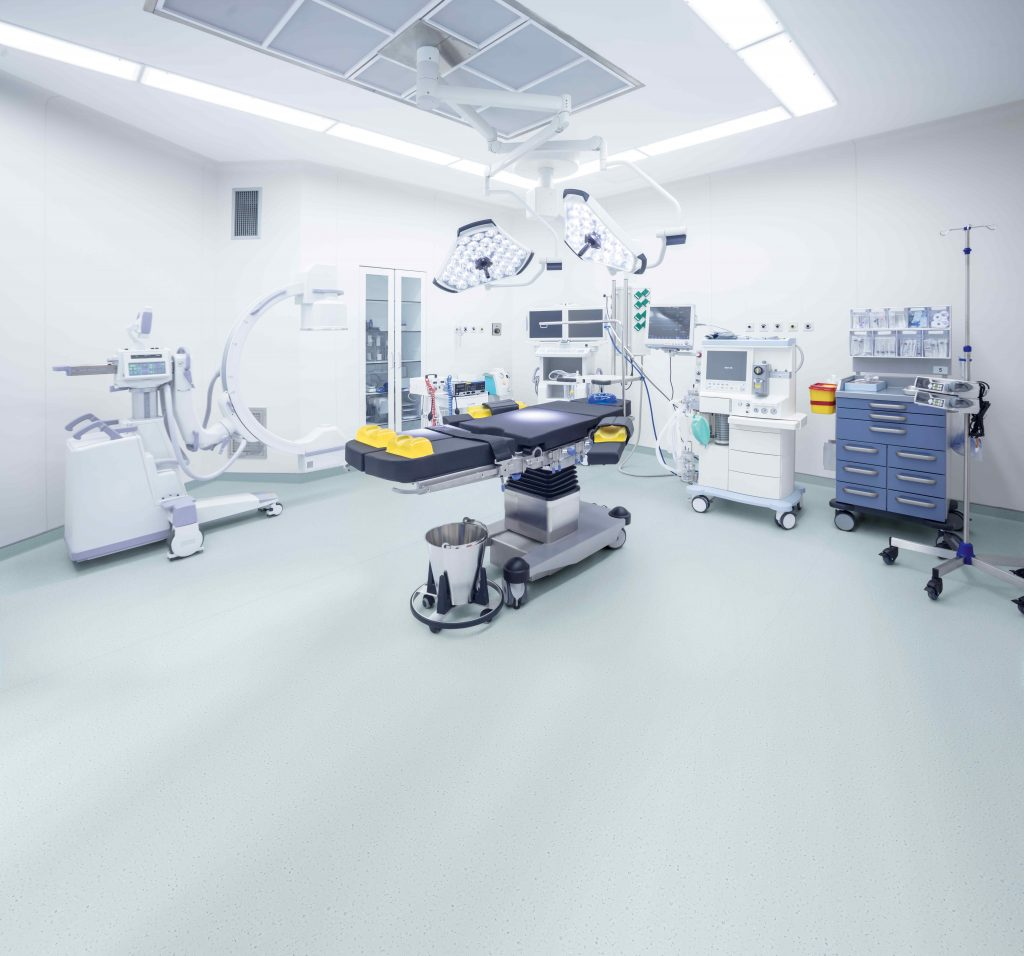bedside_monitor: (646, 304, 694, 350), (704, 349, 750, 393), (569, 303, 608, 350), (525, 306, 566, 348), (541, 354, 586, 385)
bedside_table: (554, 375, 641, 383)
breathing_tube: (654, 399, 698, 483)
cabinet: (355, 265, 428, 429)
handle: (897, 473, 936, 485), (897, 497, 936, 508), (896, 452, 937, 462), (843, 487, 877, 498), (869, 426, 906, 435), (844, 467, 878, 476), (869, 414, 907, 422), (844, 445, 879, 453), (869, 403, 905, 410), (396, 351, 399, 368), (390, 351, 393, 368)
iv_pole: (880, 223, 1024, 614)
medical_drawer: (810, 373, 967, 542)
operating_bed: (344, 393, 634, 610)
surgical_light: (432, 217, 534, 294), (562, 189, 647, 276)
syringe_pump: (912, 393, 979, 415), (912, 375, 979, 397)
ventilator: (684, 329, 811, 530)
